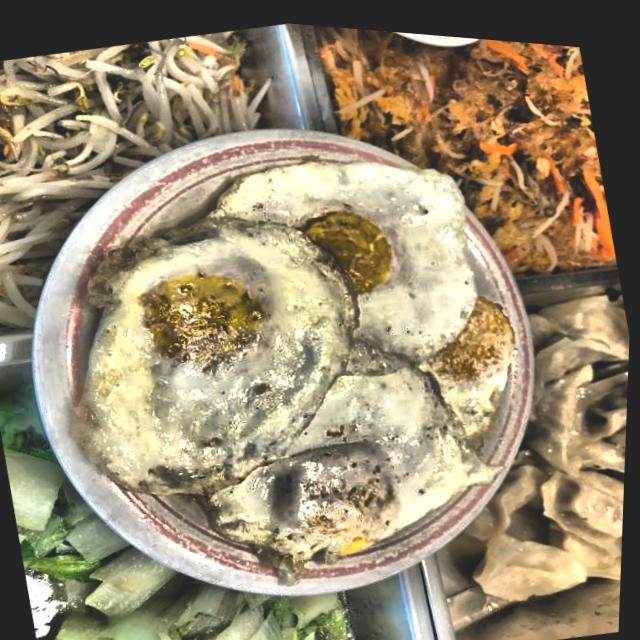Food: (86, 78, 580, 633), (0, 377, 165, 640), (243, 16, 526, 133)
